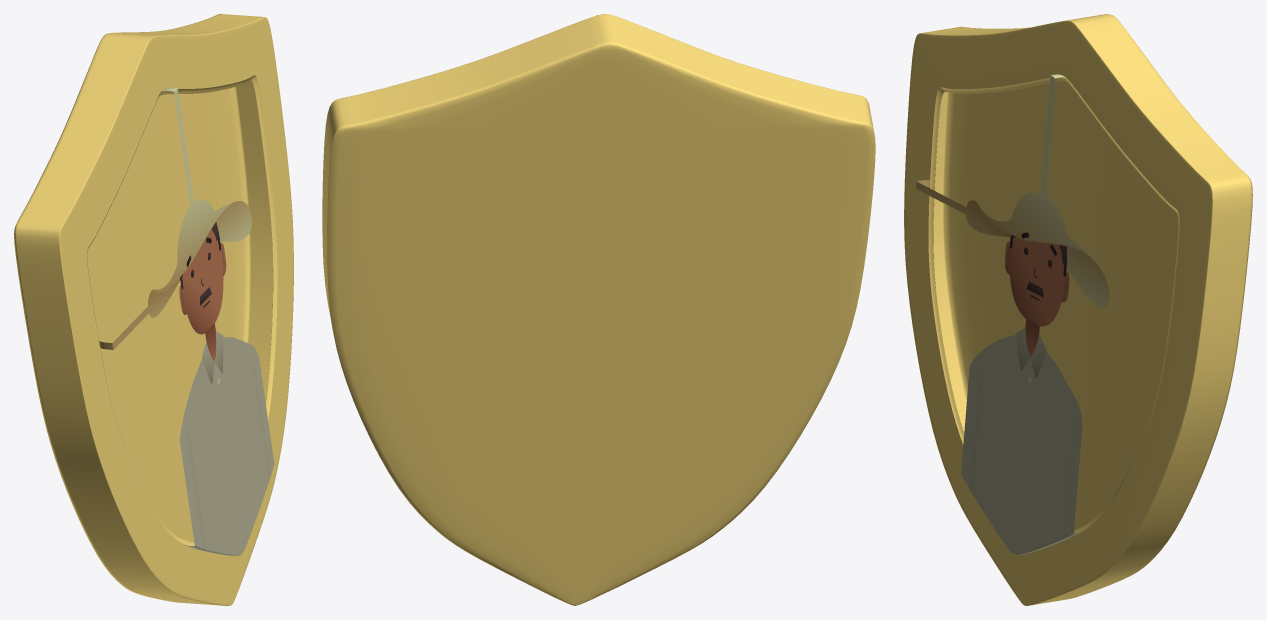
The model's file is Shield.glb.
The picture shows the model from 3 angles, left to right: view 1: azimuth 30°, elevation 25°; view 2: azimuth 150°, elevation 25°; view 3: azimuth 270°, elevation 25°; orthographic projection. The views are drawn at different scales.
Visible parts, largest first — view 1: pCube1; view 2: pCube1; view 3: pCube1.
Part boxes in pixels (x1,y1,x2,y2): pCube1: [14, 14, 293, 605]; pCube1: [322, 14, 875, 605]; pCube1: [904, 14, 1252, 605].
Bounding box in the file's own units: 1.73 × 2.35 × 1.32.
Materials: 2 (1 with a texture image).
